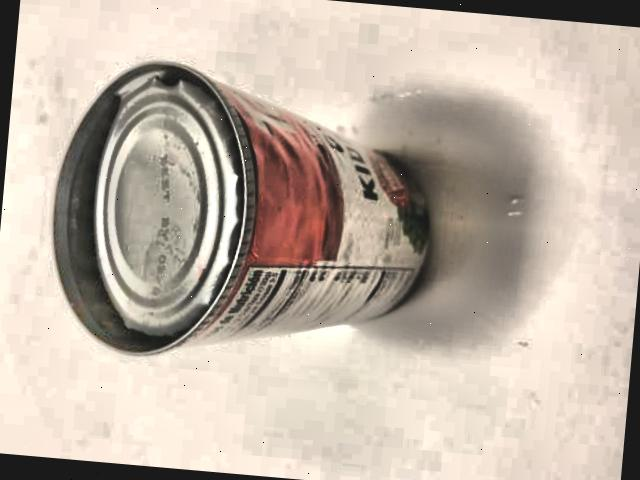Almennt: (26, 41, 456, 386)
